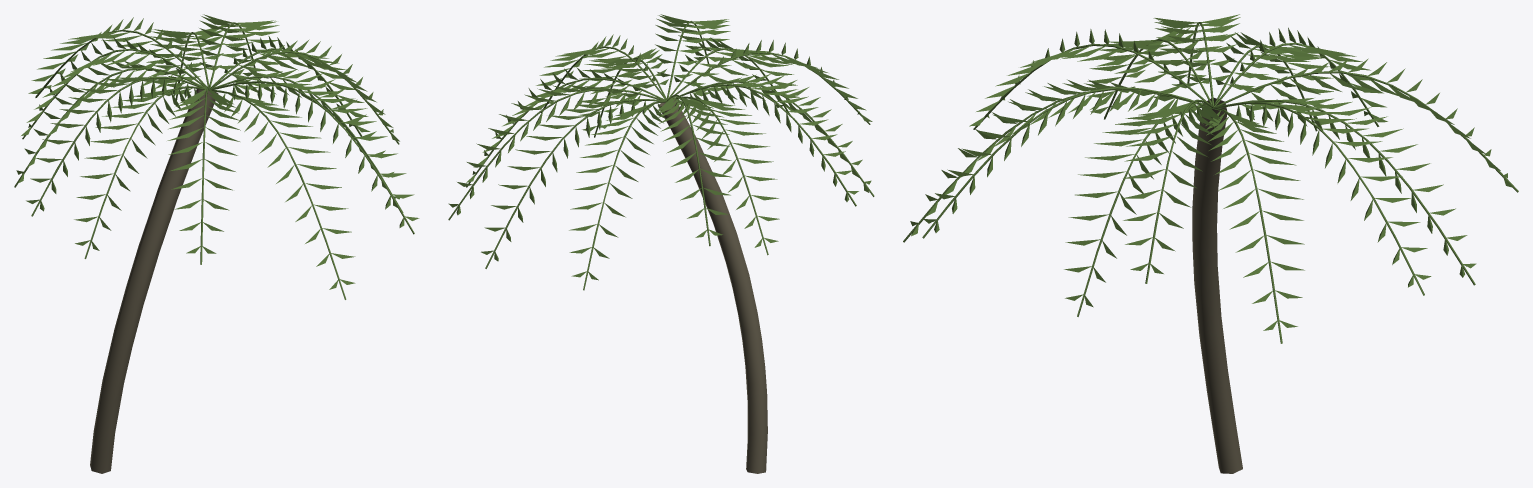
File: prop_palm_b_lod1.glb
3 views of the same model, side by side, from view 1: azimuth 30°, elevation 25°; view 2: azimuth 150°, elevation 25°; view 3: azimuth 270°, elevation 25° (orthographic). The views are drawn at different scales.
Parts seen in each view (by area): view 1: base__art06_leaf_sun, base__art06_weathered_bark; view 2: base__art06_leaf_sun, base__art06_weathered_bark; view 3: base__art06_leaf_sun, base__art06_weathered_bark.
Part boxes in pixels (x1,y1,x2,y2): base__art06_leaf_sun: (14,14,419,299); base__art06_weathered_bark: (90,89,218,473); base__art06_leaf_sun: (448,14,874,290); base__art06_weathered_bark: (657,97,767,473); base__art06_leaf_sun: (903,14,1518,343); base__art06_weathered_bark: (1192,97,1242,473).
Size of the model in its own units: 11.39 by 11.46 by 14.02.
